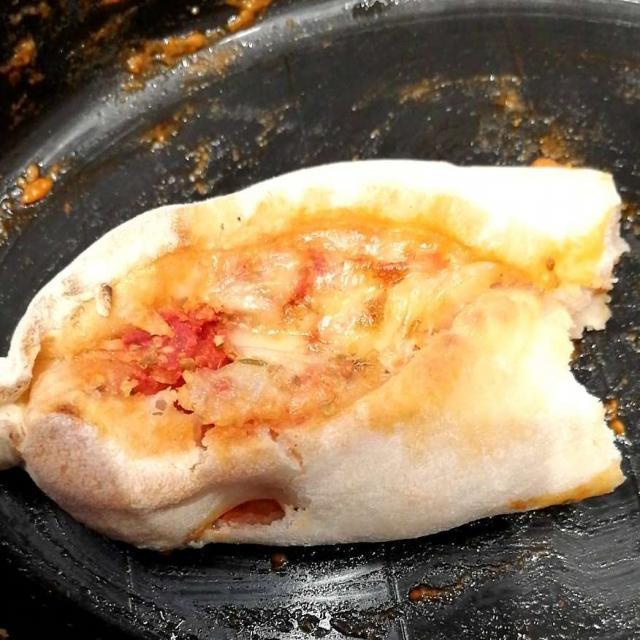pizza: (14, 170, 613, 542)
